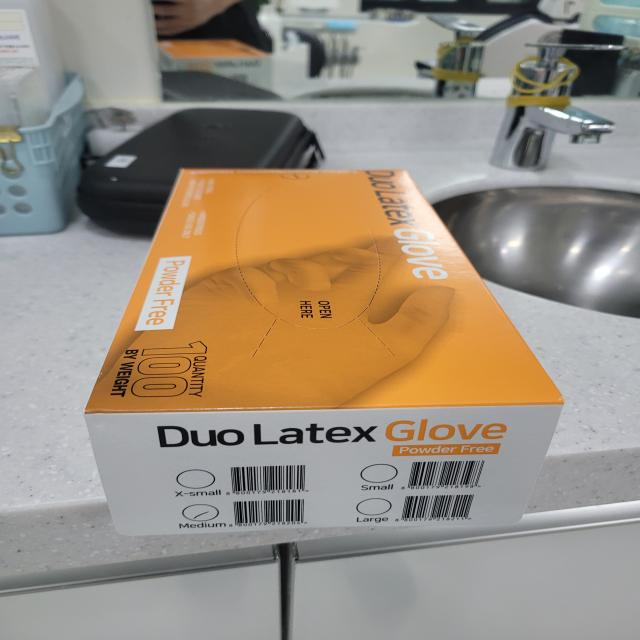glove: (65, 139, 588, 551)
